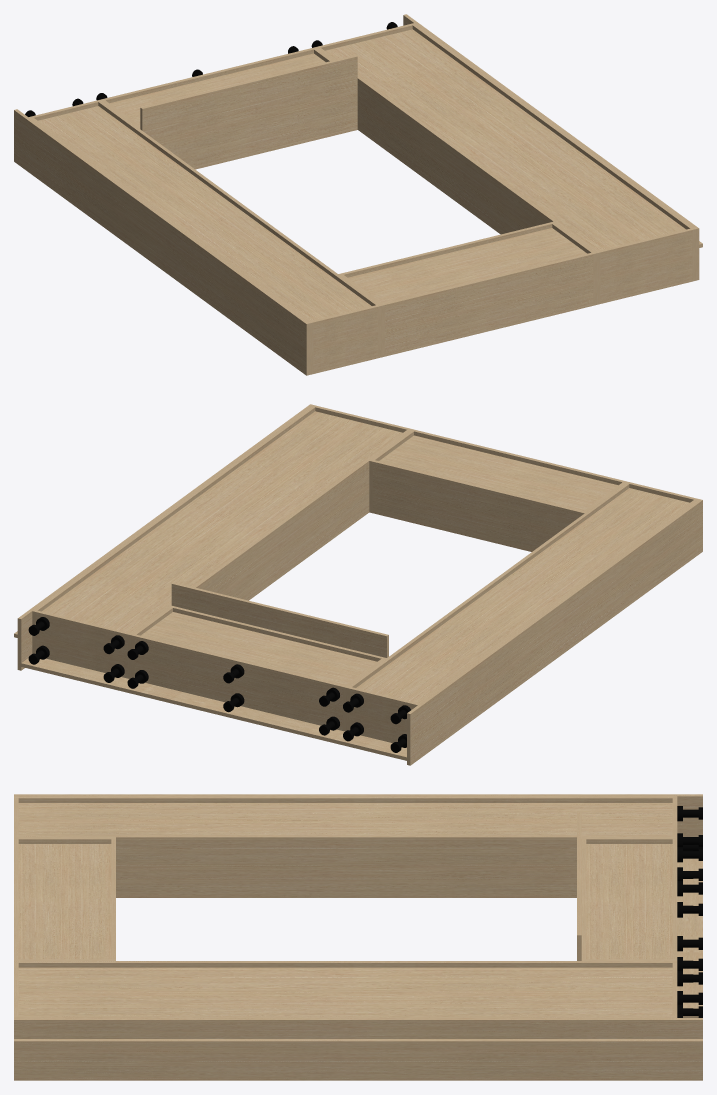
3 views of the same model, one above another, from view 1: azimuth 30°, elevation 25°; view 2: azimuth 150°, elevation 25°; view 3: azimuth 270°, elevation 25° (orthographic). The views are drawn at different scales.
Visible parts, largest first — view 1: Design Layer-1; view 2: Design Layer-1; view 3: Design Layer-1.
Part boxes in pixels (bbox=[...]): Design Layer-1: bbox=[14, 14, 702, 375]; Design Layer-1: bbox=[14, 404, 702, 765]; Design Layer-1: bbox=[14, 794, 702, 1080].
Bounding box in the file's own units: 2089 × 370 × 2670.
2 materials, 1 textured.
